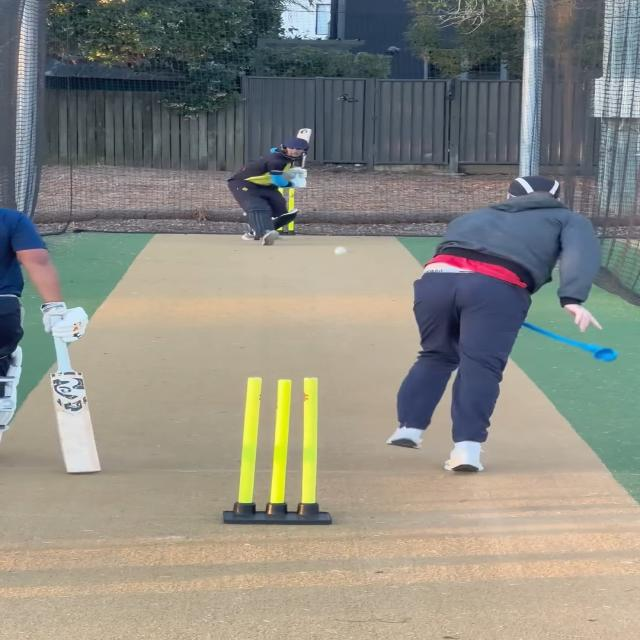ball: (331, 245, 349, 256)
stump: (220, 374, 335, 528), (268, 186, 299, 237)
